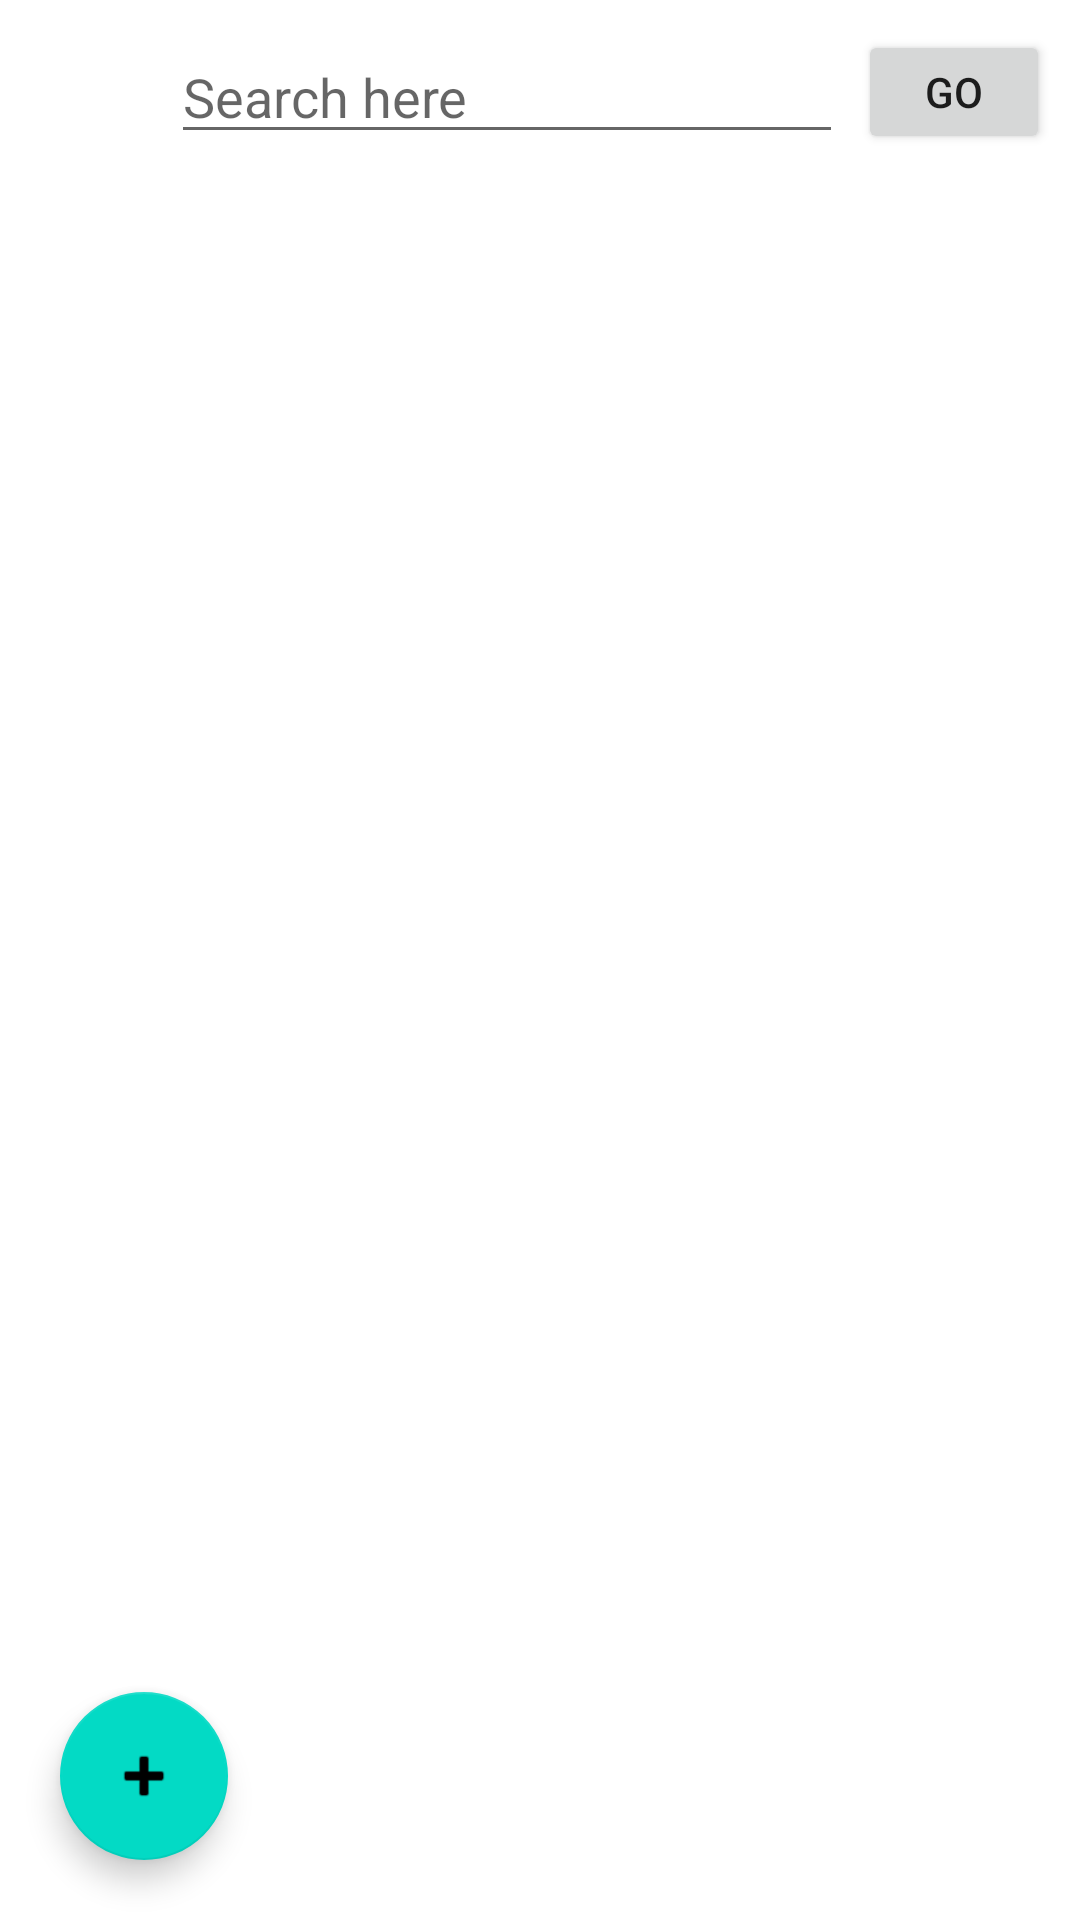

Icon click points for this 1080 x 1920 phone screenshot, format point (x, y):
add: point (144, 1776)
